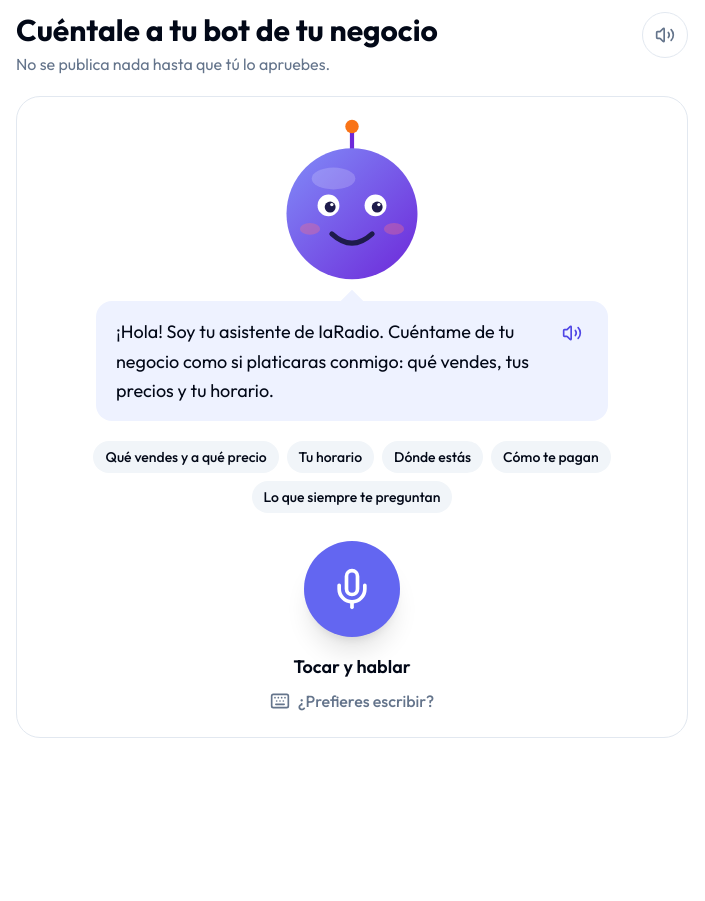
Scenario: VoiceSetupPage › an answer carries the question and what was already asked, plus the draft
Click the button "¿Prefieres escribir?" at point(352, 701), box [270,689,434,713]
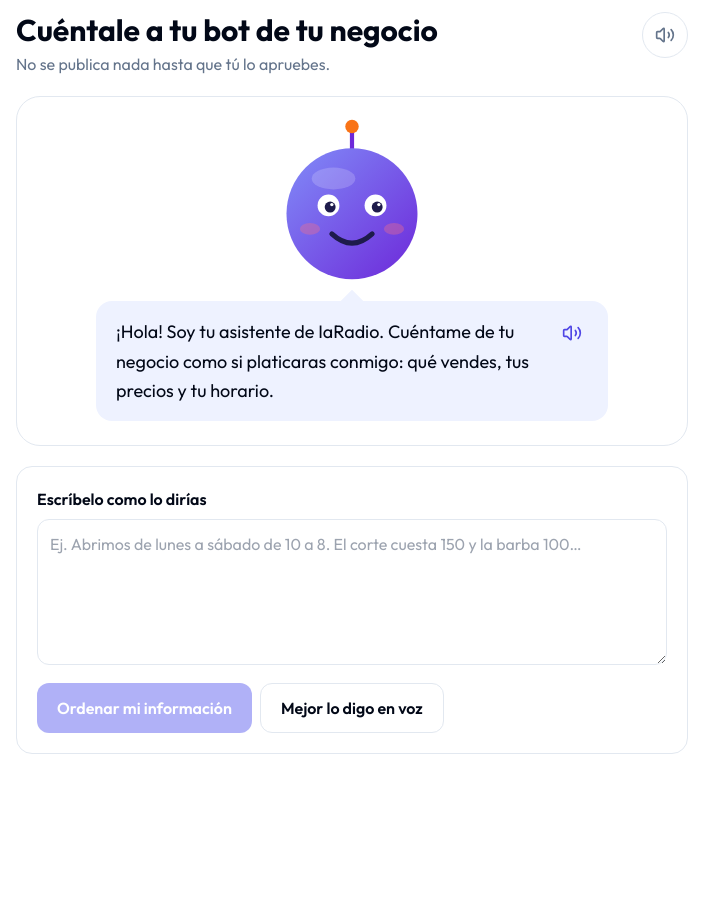
Replace the text in the text box with "corte 150" at point(352, 592), box [37,519,667,665]
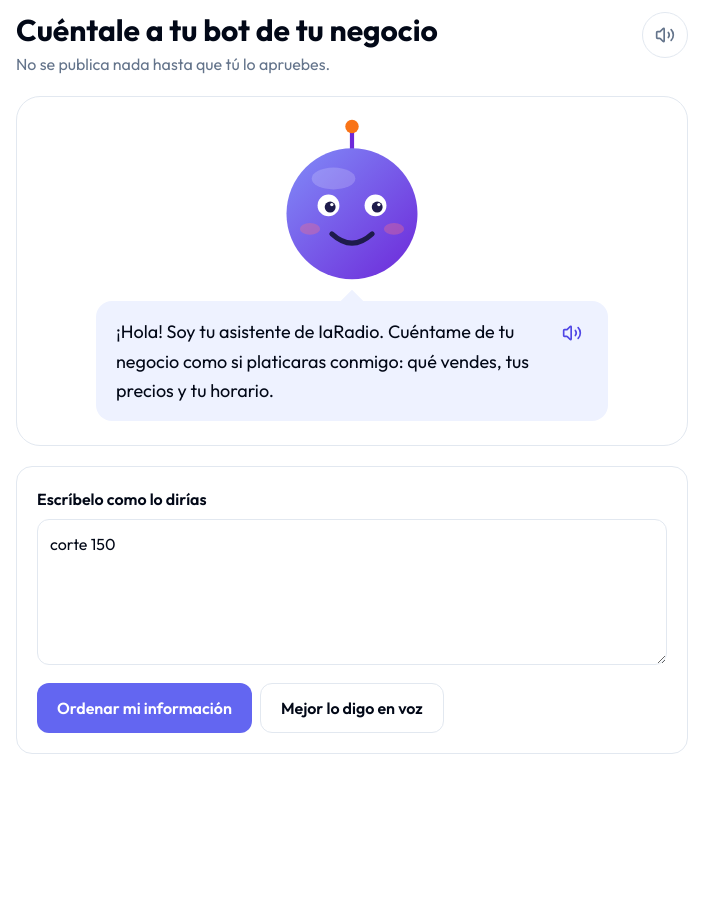
Click the button "Ordenar mi información" at point(144, 708), box [37,683,252,733]
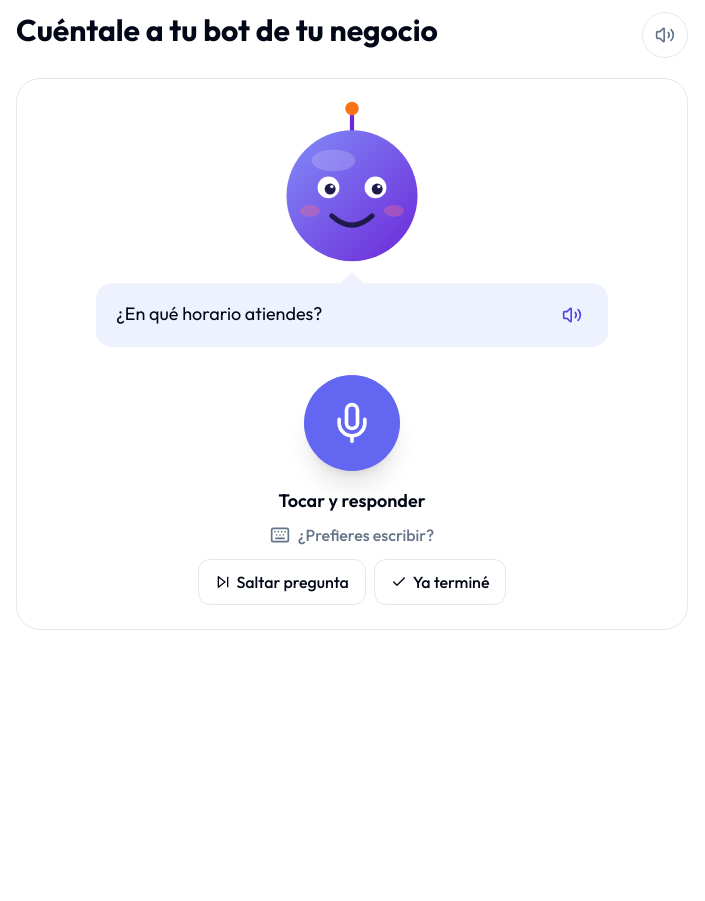
Check: the button "Saltar pregunta" is shown, box [198,559,366,605]
Click the button "¿Prefieres escribir?" at point(352, 535), box [270,523,434,547]
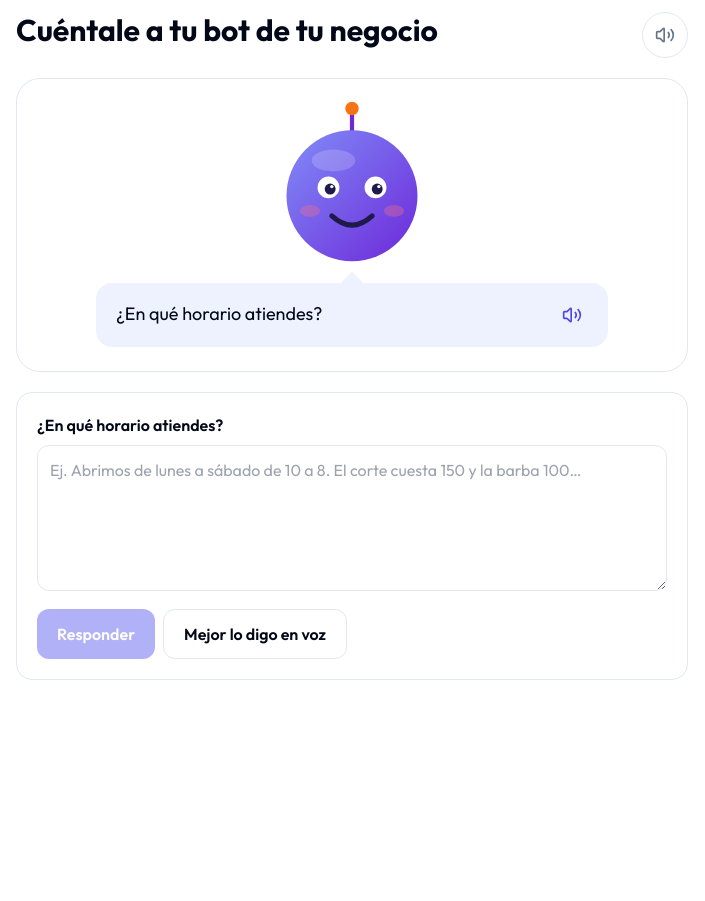
Replace the text in the text box with "de 9 a 7" at point(352, 518), box [37,445,667,591]
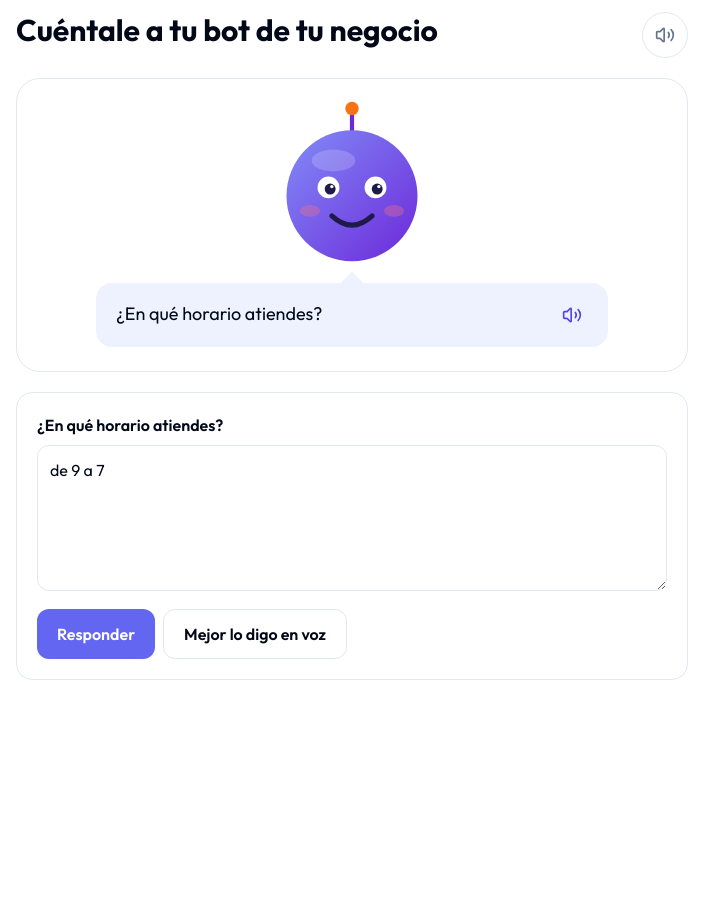
Click the button "Responder" at point(96, 634), box [37,609,155,659]
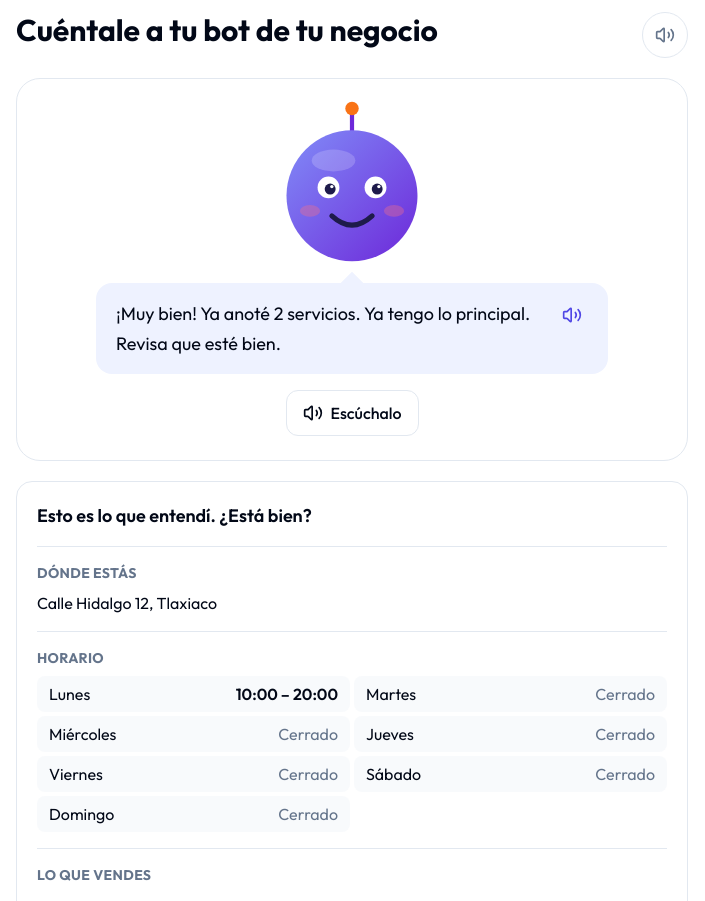
Check: the text "Esto es lo que entendí. ¿Está bien?" is shown, box [37,504,312,527]
